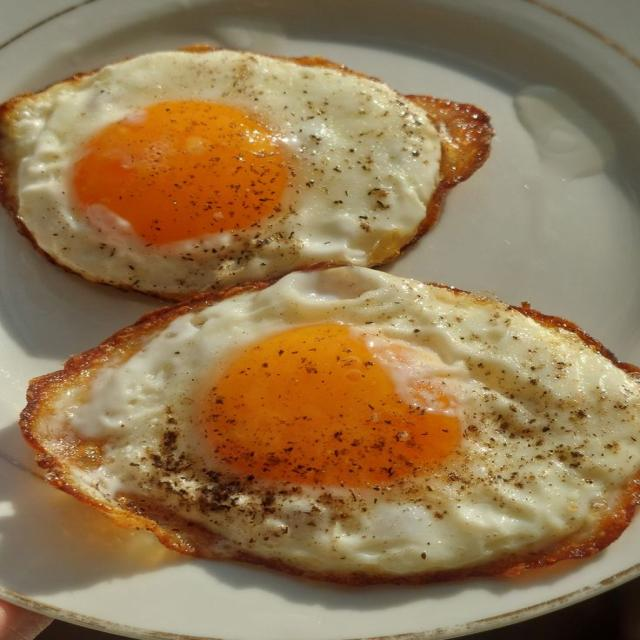fryed egg: (21, 267, 639, 583), (0, 47, 491, 298)
